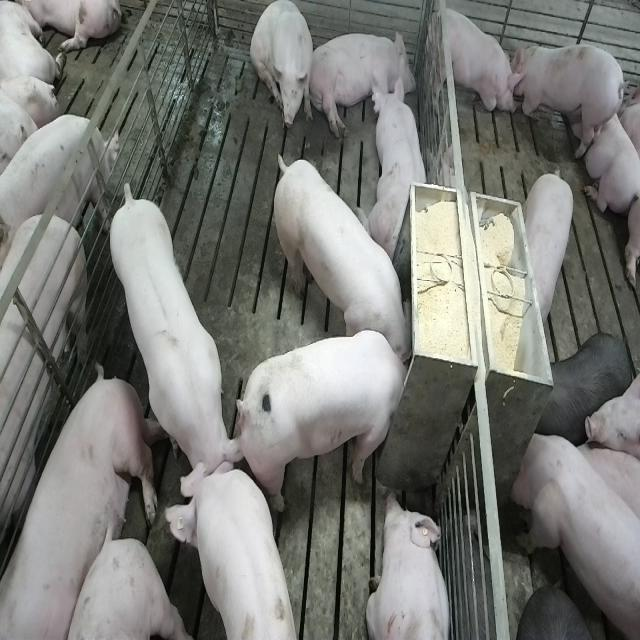Feeding: (243, 329, 418, 514), (269, 146, 411, 361)
Lateral_lying: (3, 366, 158, 640), (308, 26, 418, 139)
Sitting: (421, 0, 515, 124), (251, 2, 315, 136)
Standing: (107, 184, 245, 511), (0, 204, 89, 631), (510, 424, 638, 636), (170, 467, 301, 640), (0, 108, 116, 256), (539, 330, 632, 445), (524, 168, 578, 330)
Sternal_lying: (365, 488, 453, 640), (359, 75, 431, 259), (576, 82, 639, 212)
